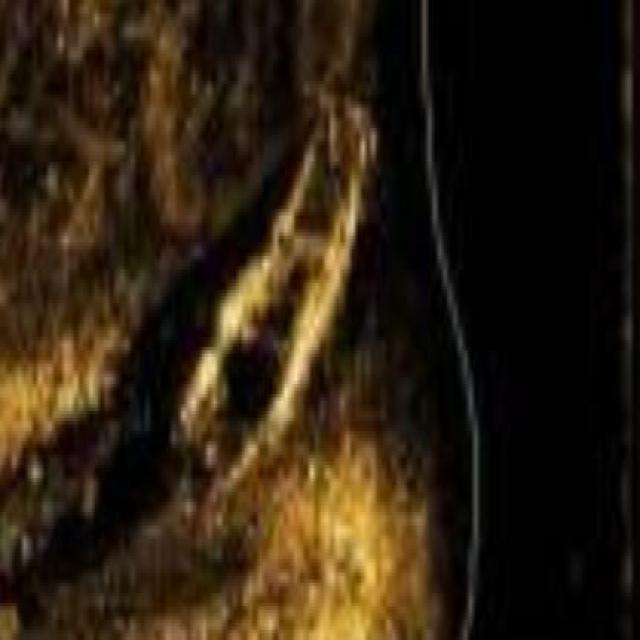ship: (174, 91, 377, 519)
